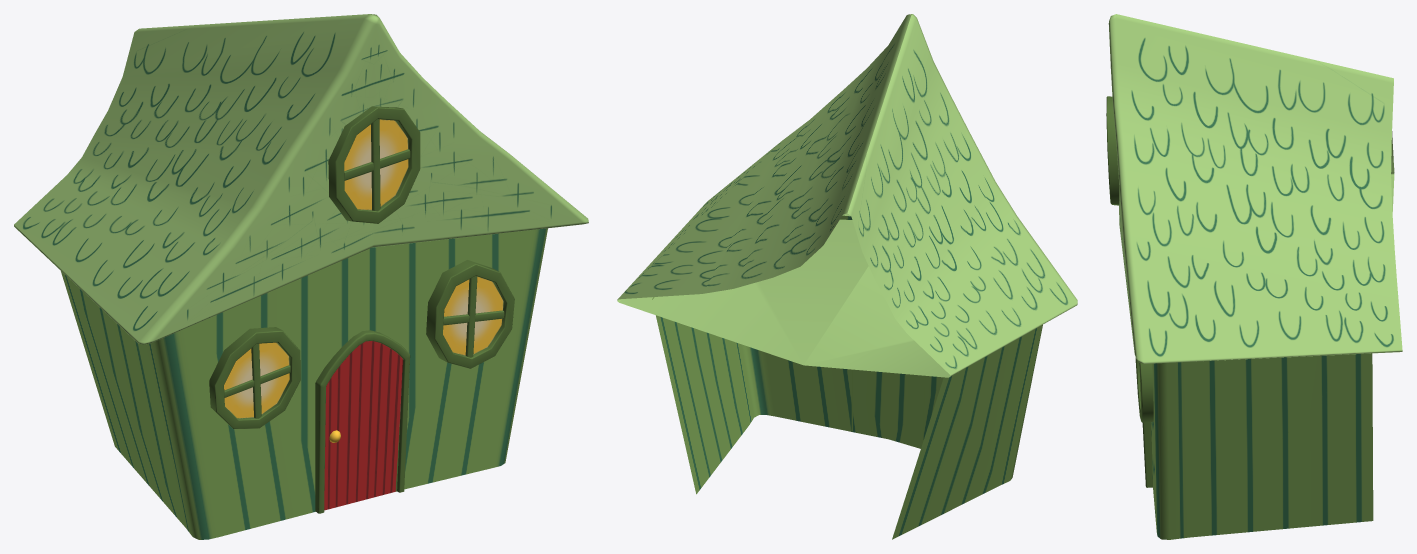
Rendered from SM_House_02.fbx.
3 views of the same model, side by side, from view 1: azimuth 30°, elevation 25°; view 2: azimuth 150°, elevation 25°; view 3: azimuth 270°, elevation 25° (orthographic). The views are drawn at different scales.
Visible parts, largest first — view 1: SM_House_02; view 2: SM_House_02; view 3: SM_House_02.
Boxes of the visible parts, x1,y1,x2,y2 form: SM_House_02: (14, 14, 588, 539); SM_House_02: (617, 14, 1077, 539); SM_House_02: (1106, 14, 1402, 539).
Bounding box in the file's own units: 782 × 843 × 495.
